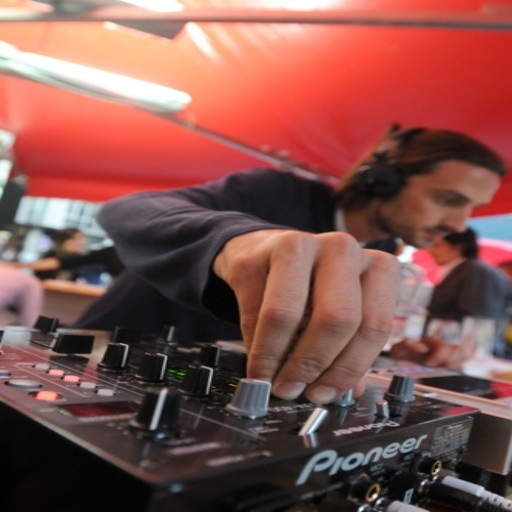hand: (197, 225, 411, 412), (384, 332, 473, 373)
